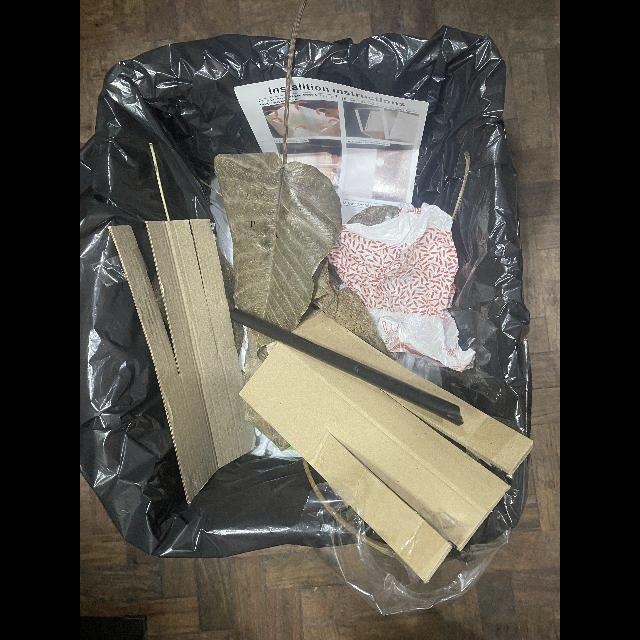cardboard: (239, 310, 533, 583), (108, 219, 257, 504)
food_wrapper: (328, 203, 476, 374)
paper: (233, 77, 429, 224)
